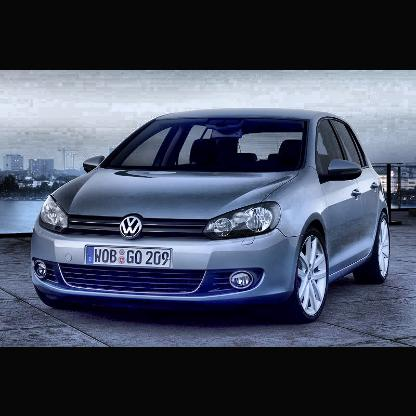Volkswagen Golf Hatchback 2012: (30, 109, 390, 321)
